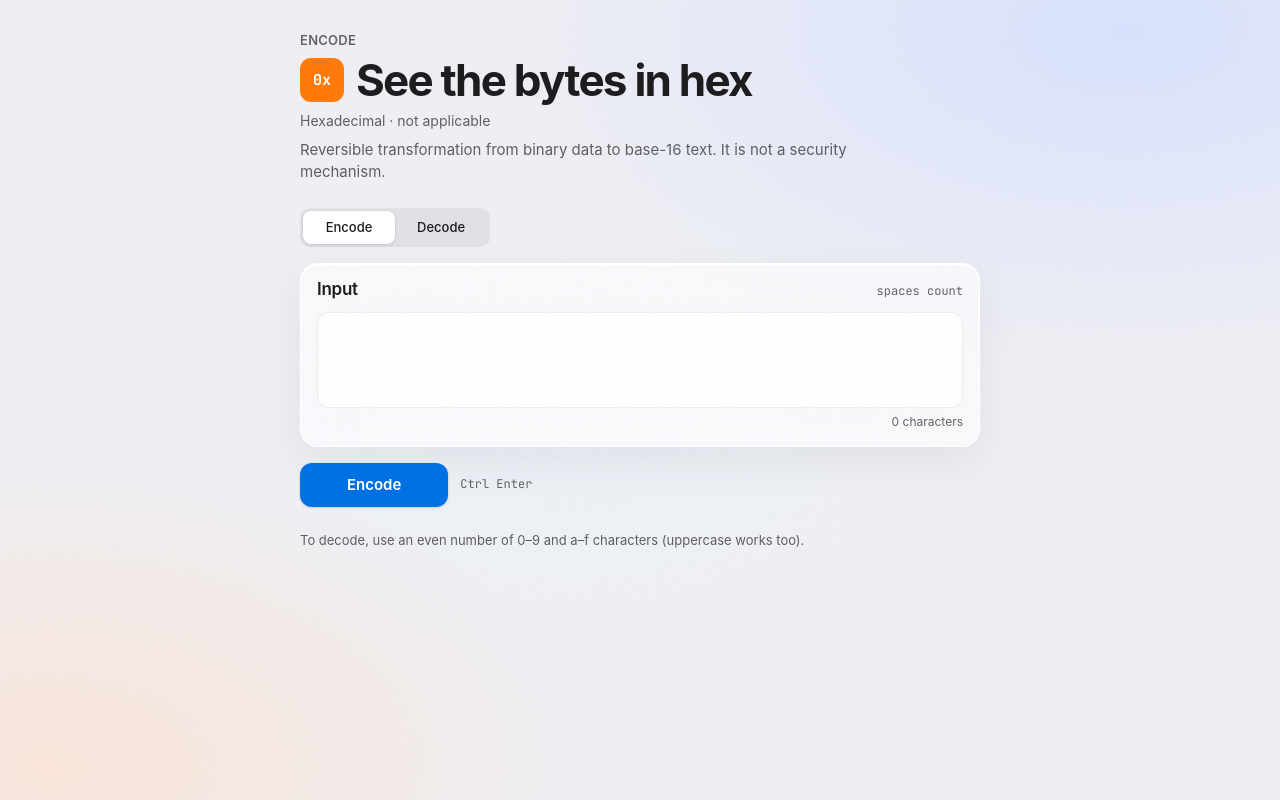
Test: Workbench › keeps the rate-limit message and the cooldown across a mode switch
Later steps or results of the test are not shown.
Expected: the heading "See the bytes in hex" is shown, [356, 57, 752, 103]
Click the button "Encode": (374, 485) [300, 463, 448, 507]
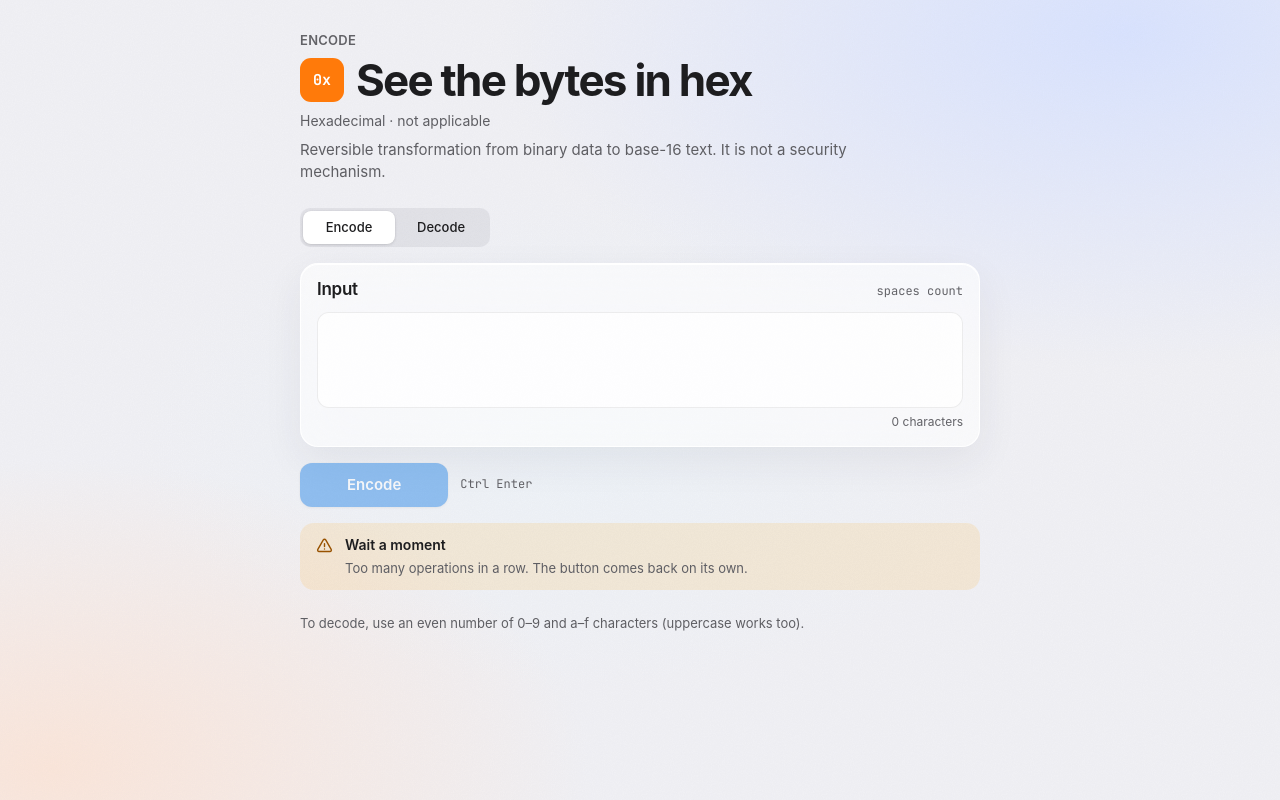
Expected: the text "Wait a moment" is shown, [345, 536, 446, 553]
Click the radio button labelled "Decode": (441, 227) [395, 211, 487, 244]
Wait 60100 ms
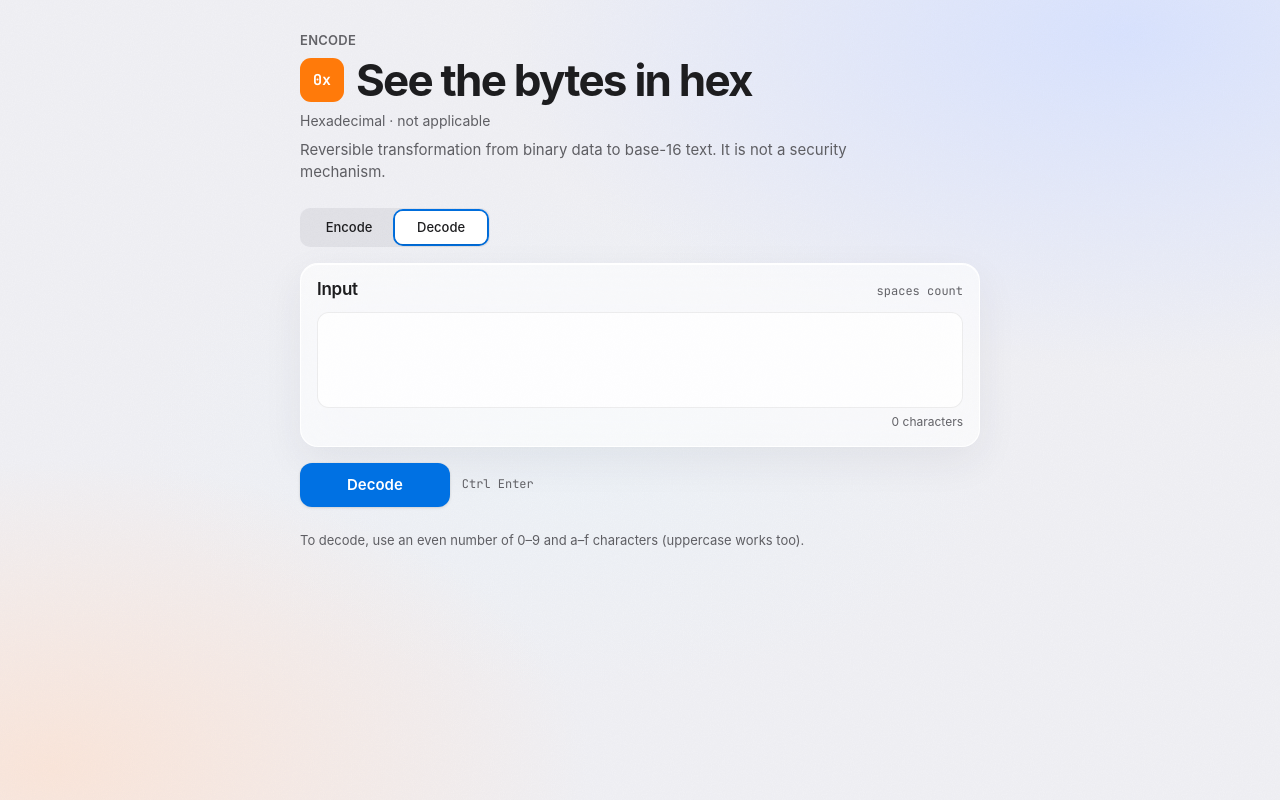
Expected: the button "Decode" is enabled, [300, 463, 450, 507]
